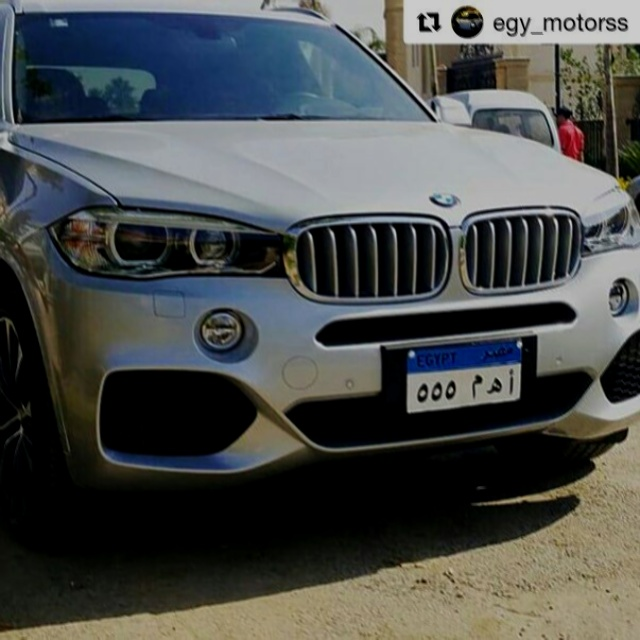License Plate: (401, 334, 527, 419)
